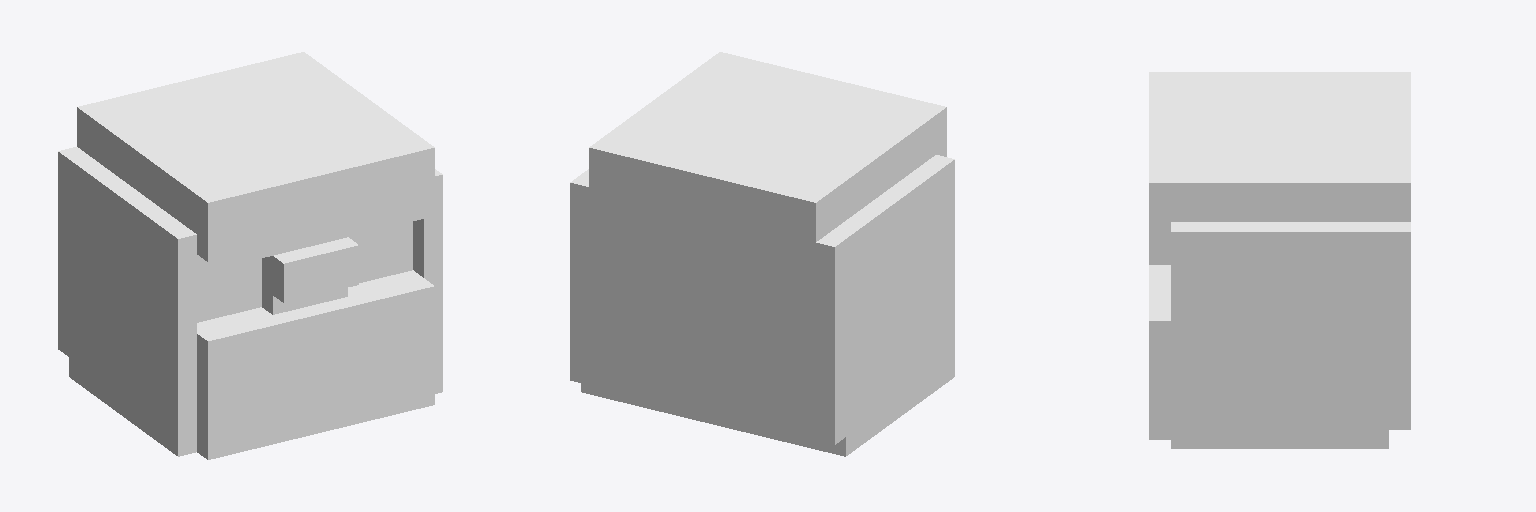
File: enemy_b_body.obj
3 renders of one model, left to right at view 1: azimuth 30°, elevation 25°; view 2: azimuth 150°, elevation 25°; view 3: azimuth 270°, elevation 25°, orthographic.
Visible parts, largest first — view 1: object 1; view 2: object 1; view 3: object 1.
Part boxes in pixels (x1,y1,x2,y2): object 1: (58,52,442,459); object 1: (570,52,954,456); object 1: (1149,72,1410,448).
Bounding box in the file's own units: 1.4 × 1.3 × 1.2.